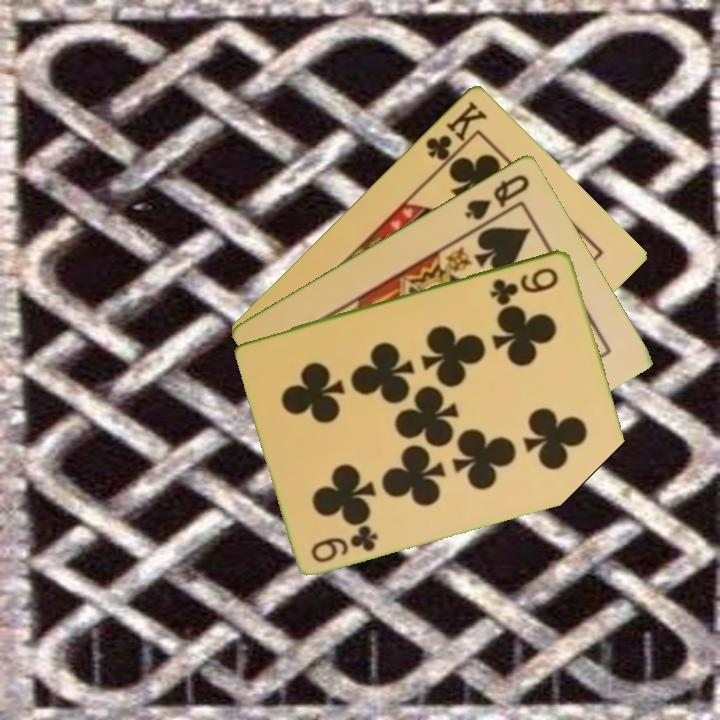9c: (307, 521, 381, 566), (487, 263, 562, 305)
Kc: (422, 96, 491, 172)
Qs: (461, 170, 533, 223)
